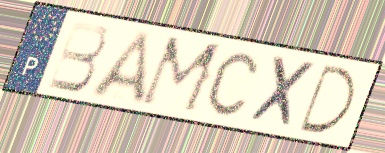A: (85, 28, 155, 109)
B: (45, 18, 110, 94)
C: (204, 50, 260, 119)
D: (296, 62, 359, 137)
M: (136, 33, 227, 117)
X: (245, 53, 319, 133)
